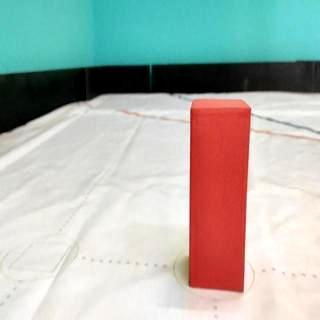redbox: (190, 100, 247, 292)
